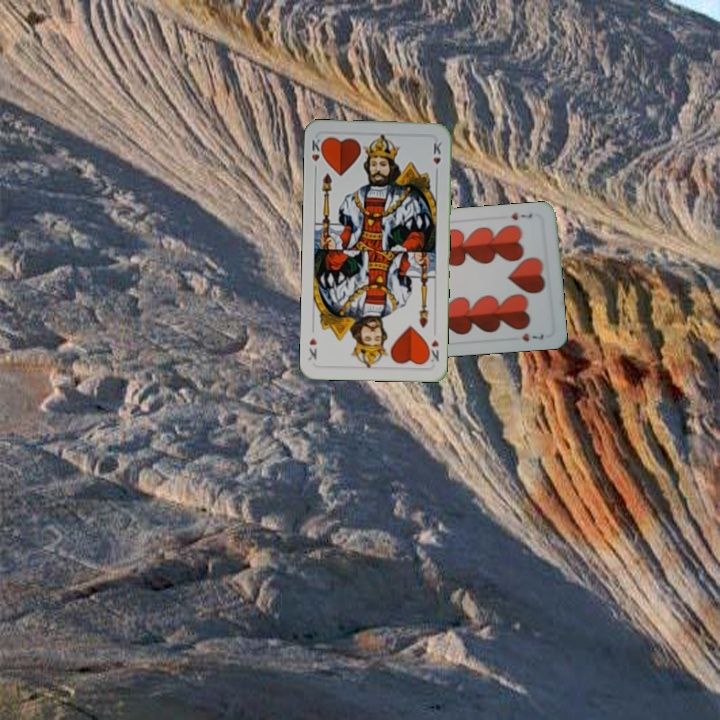H7: (508, 208, 535, 222)
HK: (307, 134, 327, 175), (423, 336, 441, 366)
